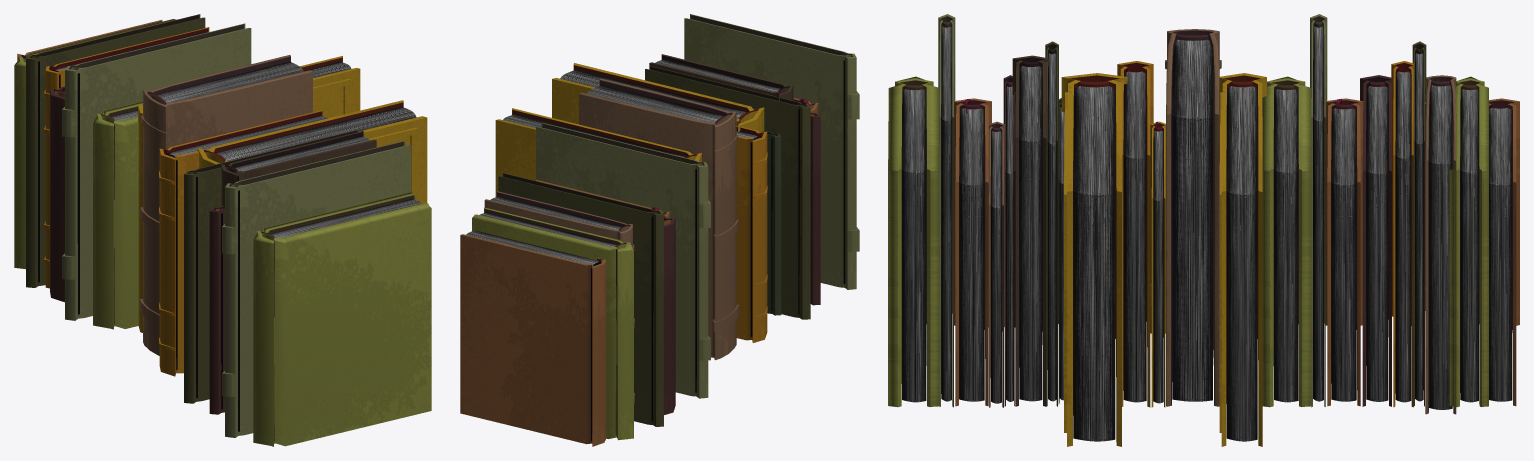
Rendered from Shelf4.fbx.
3 renders of one model, left to right at view 1: azimuth 30°, elevation 25°; view 2: azimuth 150°, elevation 25°; view 3: azimuth 270°, elevation 25°, orthographic. The views are drawn at different scales.
Visible parts, largest first — view 1: pCube11 (×3), pCube14 (×2), pCube67 (×2), pCube71, pCube15 (×2), pCube12 (×2), pCube69 (×2), pages14, pCube68, pages13, pages16 (×2), pages11 (+3 smaller); view 2: pCube14 (×2), pCube72, pCube67 (×2), pCube71 (×2), pCube11, pCube15, pCube12 (×2), pCube69 (×2), pCube66, pages13 (×2), pages14 (×2), pages16 (×2) (+7 smaller); view 3: pages14 (×2), pCube11 (×3), pages17 (×3), pages13 (×2), pages15 (×3), pages11 (×2), pCube12 (×2), pCube72 (×3), pages9 (×2), pages16 (×2), pages8, pCube71 (×2) (+12 smaller).
Part boxes in pixels (x1,y1,x2,y2): pCube11 (×3): [14, 19, 431, 446]; pCube14 (×2): [62, 23, 411, 437]; pCube67 (×2): [26, 14, 358, 403]; pCube71: [140, 55, 312, 355]; pCube15 (×2): [44, 27, 322, 376]; pCube12 (×2): [138, 56, 427, 332]; pCube69 (×2): [50, 86, 224, 414]; pages14: [215, 106, 416, 160]; pCube68: [221, 130, 376, 205]; pages13: [157, 61, 303, 102]; pages16 (×2): [77, 28, 403, 431]; pages11: [165, 115, 327, 369]; pCube14 (×2): [536, 14, 859, 398]; pCube72: [460, 234, 606, 446]; pCube67 (×2): [498, 65, 810, 426]; pCube71 (×2): [484, 78, 739, 404]; pCube11: [472, 207, 633, 440]; pCube15: [736, 125, 767, 342]; pCube12 (×2): [495, 63, 764, 197]; pCube69 (×2): [664, 112, 820, 414]; pCube66: [764, 130, 781, 315]; pages13 (×2): [490, 85, 722, 229]; pages14 (×2): [503, 69, 747, 157]; pages16 (×2): [544, 19, 845, 392]; pages14 (×2): [1073, 86, 1257, 441]; pCube11 (×3): [888, 76, 1488, 407]; pages17 (×3): [959, 108, 1512, 401]; pages13 (×2): [1172, 39, 1452, 409]; pages15 (×3): [902, 89, 1478, 402]; pages11 (×2): [1123, 71, 1411, 402]; pCube12 (×2): [1061, 73, 1266, 446]; pCube72 (×3): [954, 98, 1519, 406]; pages9 (×2): [1006, 86, 1388, 401]; pages16 (×2): [941, 26, 1323, 401]; pages8: [1019, 66, 1042, 401]; pCube71 (×2): [1165, 29, 1456, 414].
Size of the model in its own units: 1.09 by 1.07 by 2.
